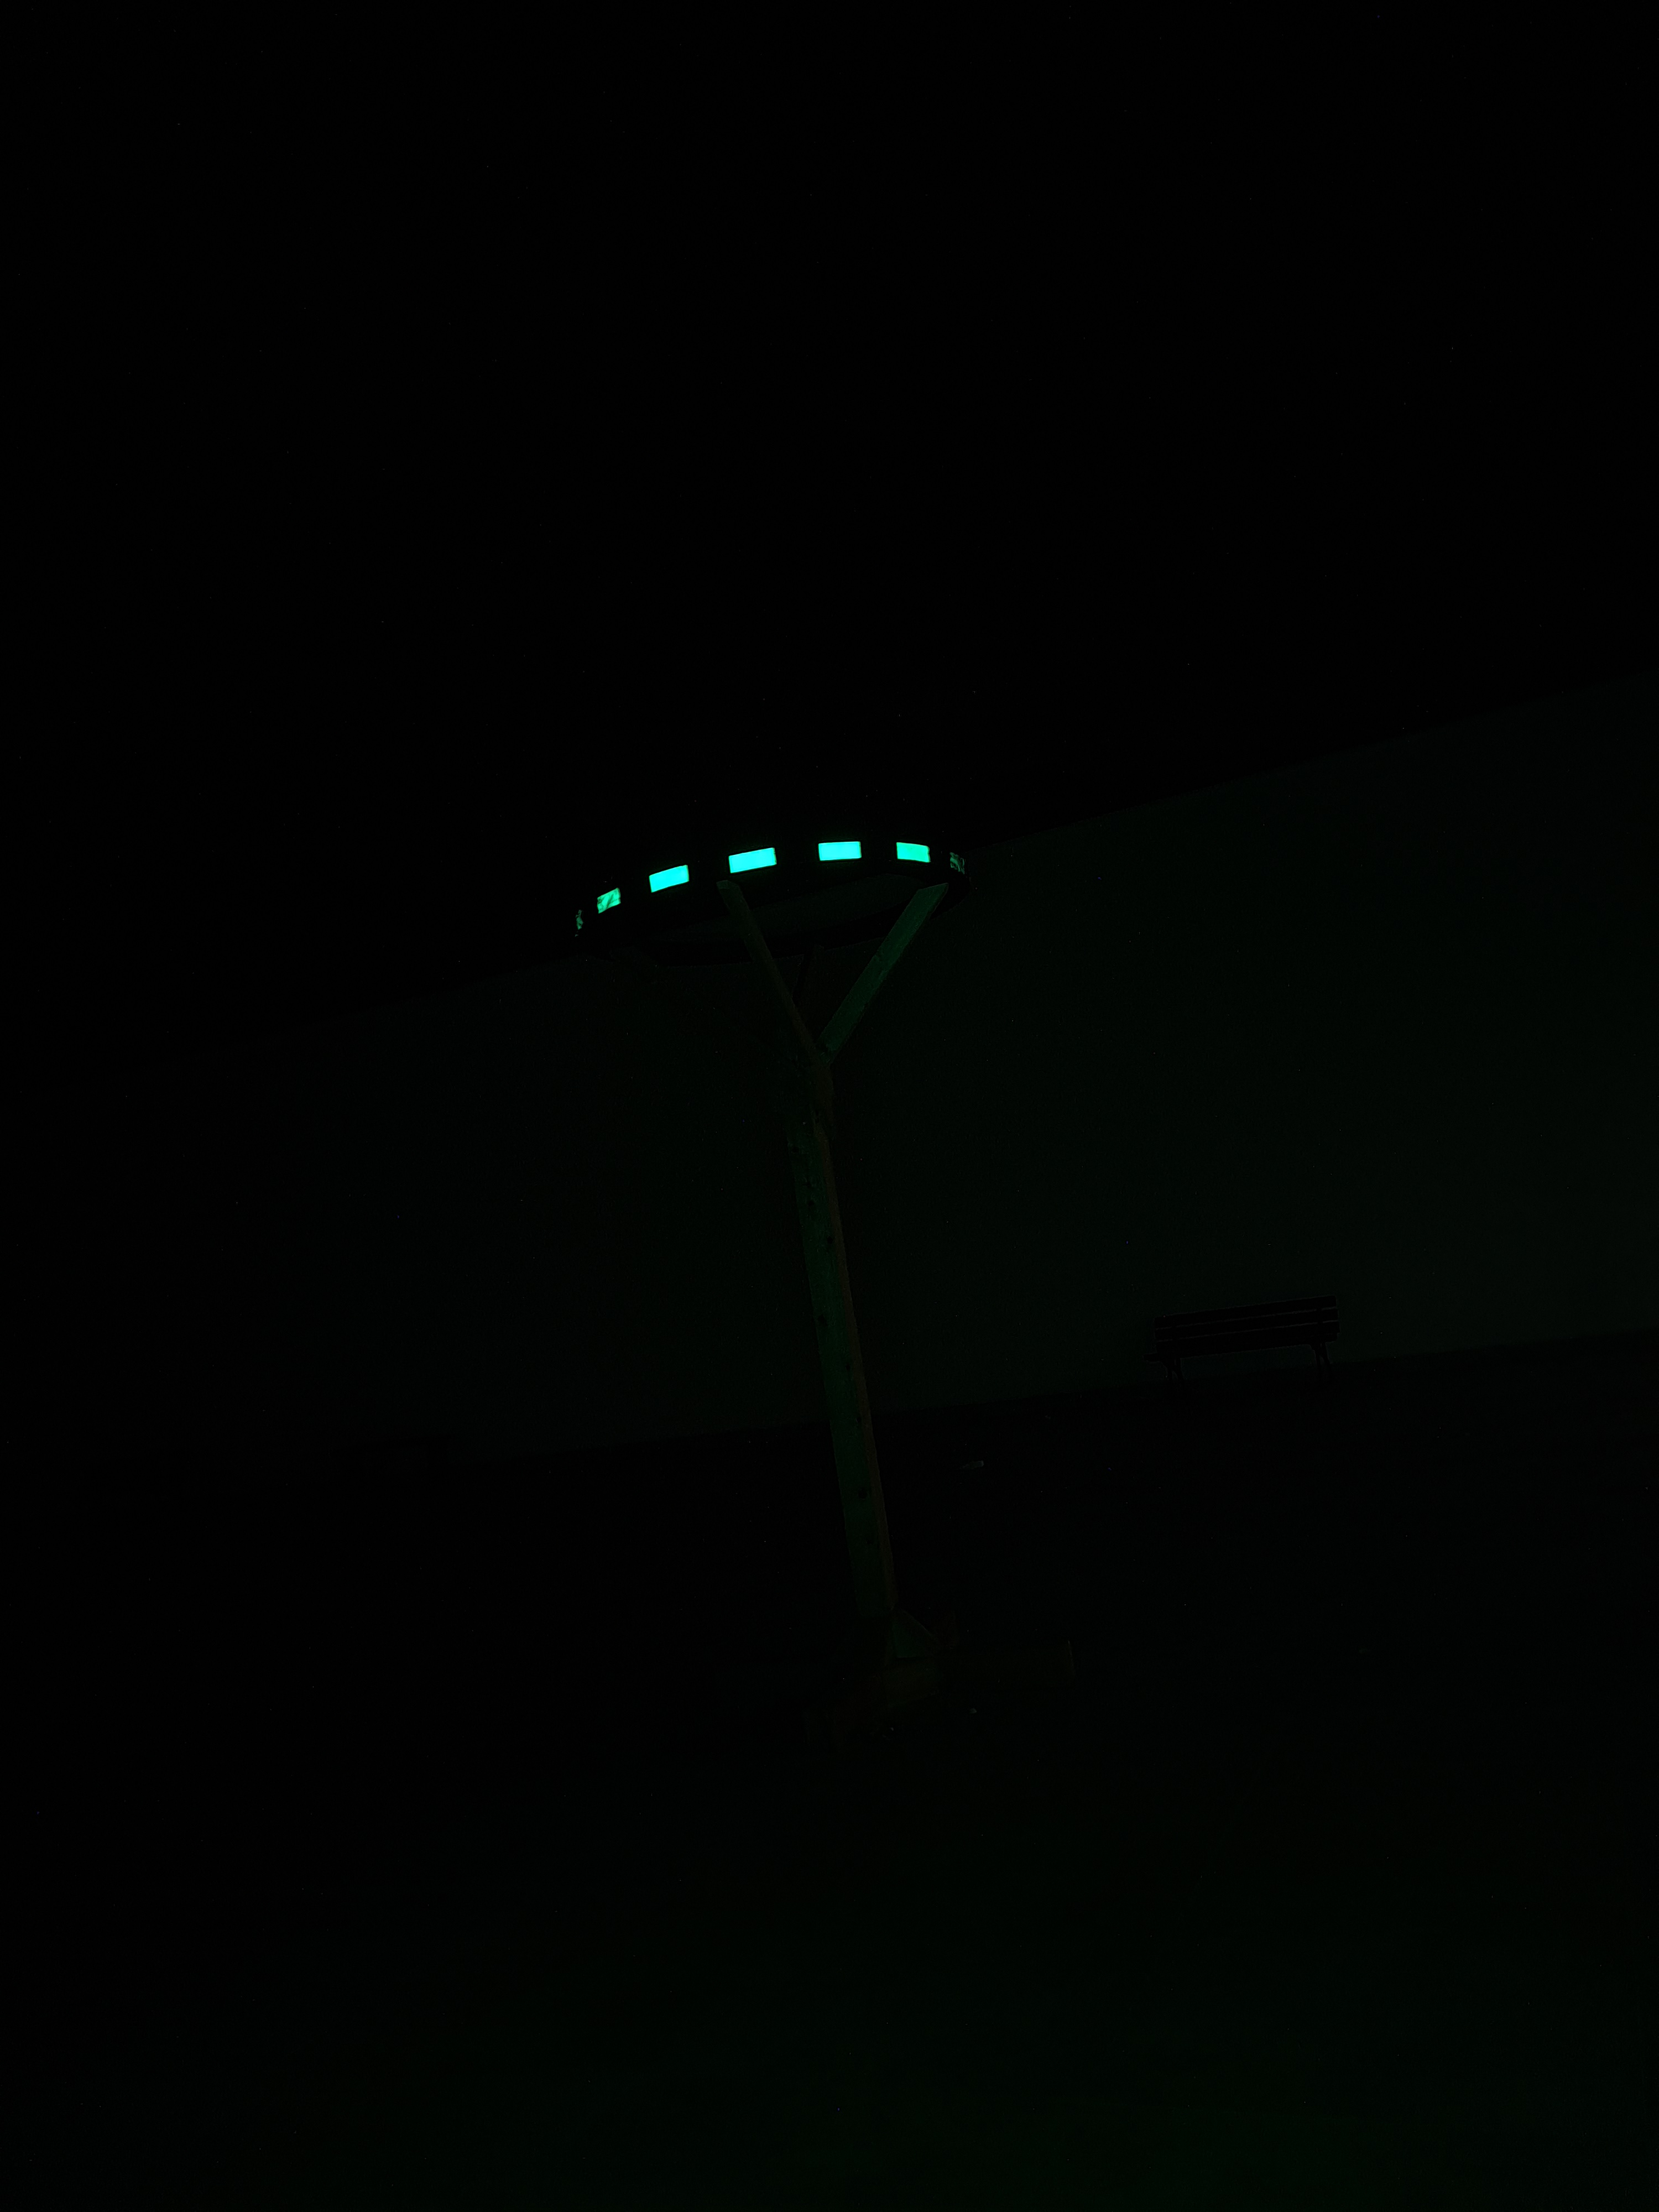hoop: (570, 834, 969, 932)
